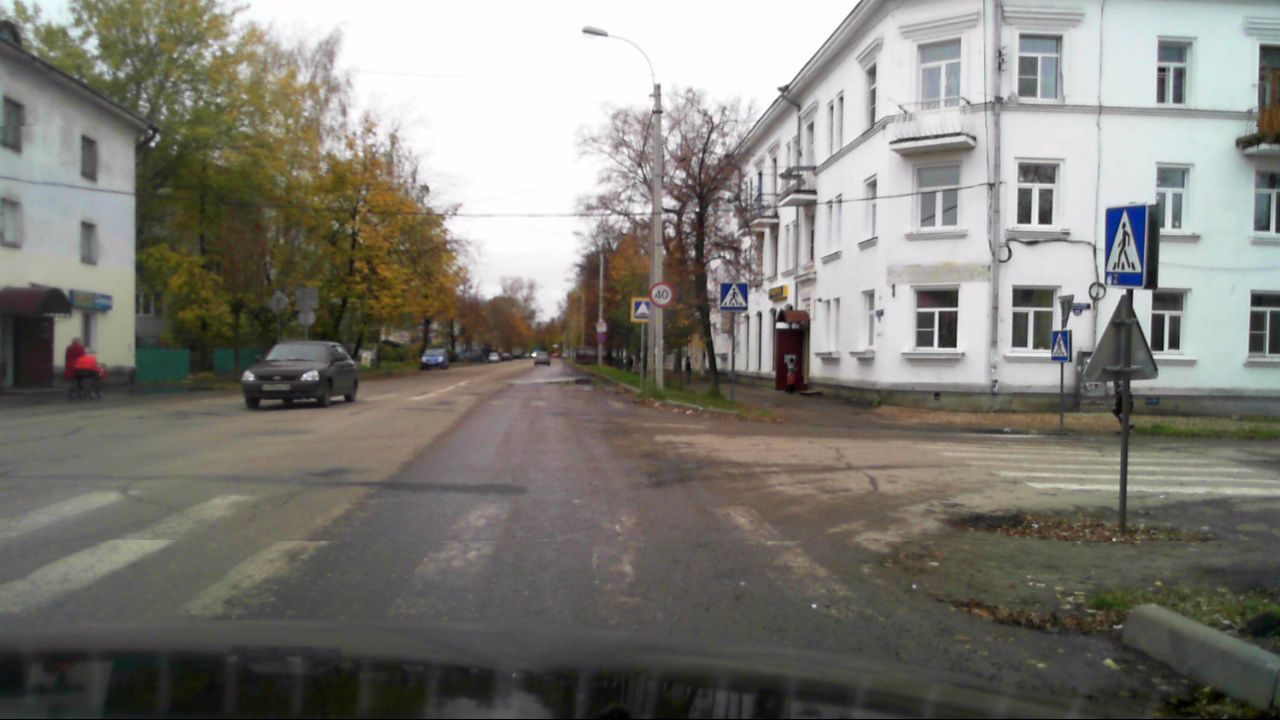speed_warning_40: (650, 282, 675, 307)
